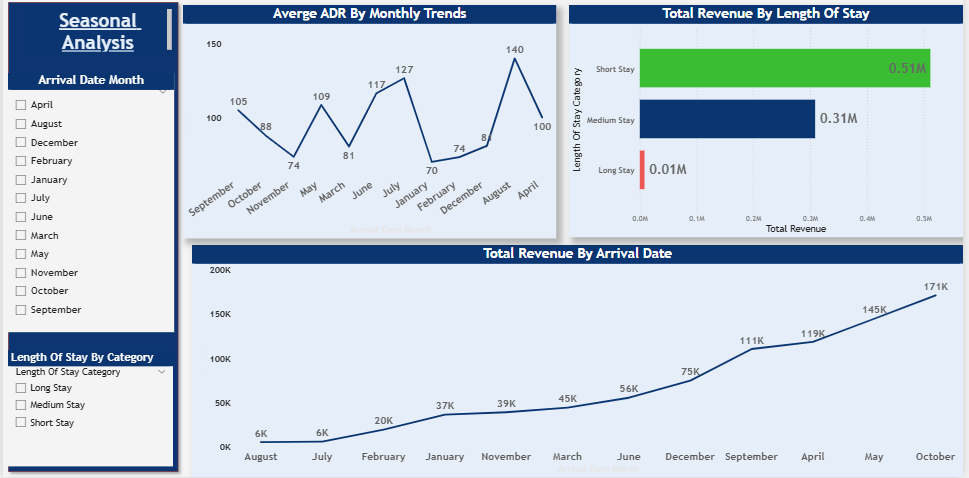

This screenshot's page, from the dashboard's own definition file:
{"tool":"powerbi","page":{"name":"Seasonal Analysis Report","canvas":[1600,800],"ordinal":2},"visuals":[{"type":"lineChart","title":"Total Revenue By Arrival Date","fields":{"Y":["hotel_bookings.Total Revenue"],"Category":["hotel_bookings.Arrival Date Month"]},"box":[314.8,412.9,1285.2,387.1],"z":0},{"type":"shape","box":[0,0,301.1,800],"z":1000},{"type":"textbox","box":[37.8,15.5,247.7,80.9],"z":2000},{"type":"barChart","title":"Total Revenue By Length Of Stay","fields":{"Category":["hotel_bookings.Length Of Stay Category "],"Y":["hotel_bookings.Total Revenue"]},"box":[943.3,12.6,656.7,387.4],"z":3000},{"type":"lineChart","title":"Averge ADR By Monthly Trends","fields":{"Category":["hotel_bookings.Arrival Date Month"],"Y":["Avg(hotel_bookings.Adr)"]},"box":[300.8,12.6,622,389],"z":4000},{"type":"slicer","title":"Arrival Date Month","fields":{"Values":["hotel_bookings.Arrival Date Month"]},"box":[8.6,127.3,277,431.8],"z":5000},{"type":"slicer","title":"Length Of Stay By Category","fields":{"Values":["hotel_bookings.Length Of Stay Category "]},"box":[8.6,588.4,275.3,194.4],"z":6000}]}

Visuals, with their boxes in screenshot pixels (x1, y1, x2, y2), scaled from the page's 1600x800 canvas onto the 969x478 screenshot:
"Total Revenue By Arrival Date" lineChart: <bbox>191, 247, 968, 477</bbox>
shape: <bbox>0, 0, 182, 477</bbox>
textbox: <bbox>23, 9, 173, 58</bbox>
"Total Revenue By Length Of Stay" barChart: <bbox>571, 8, 968, 239</bbox>
"Averge ADR By Monthly Trends" lineChart: <bbox>182, 8, 559, 240</bbox>
"Arrival Date Month" slicer: <bbox>5, 76, 173, 334</bbox>
"Length Of Stay By Category" slicer: <bbox>5, 352, 172, 468</bbox>
